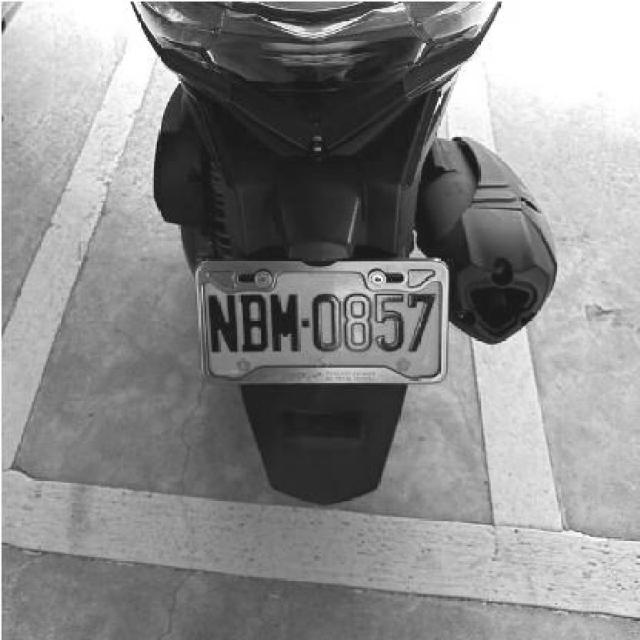-: (298, 315, 311, 328)
0: (311, 288, 343, 352)
5: (370, 291, 404, 349)
7: (403, 291, 439, 354)
8: (342, 291, 372, 352)
B: (237, 291, 271, 354)
M: (269, 291, 303, 355)
N: (208, 292, 238, 357)
